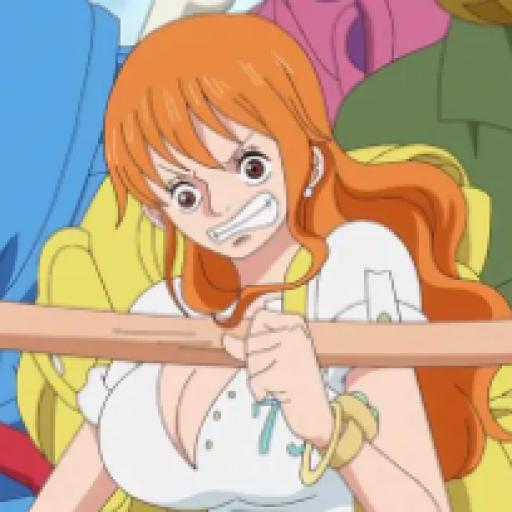Nami: (4, 14, 484, 512)
